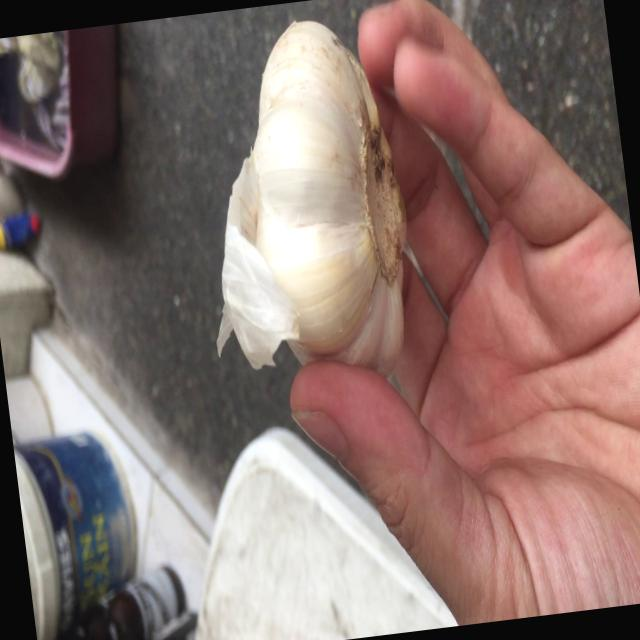bawang: (216, 0, 432, 400)
